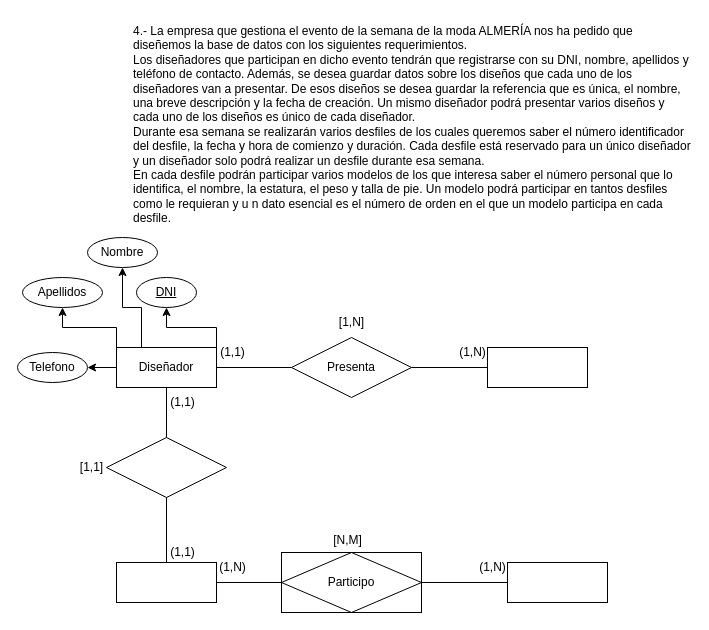
Image size: 709x630. Some labels were removed from this diagram. The box of each missing label's shape, as (x1, y1, x2, y2) in pixels:
Desfile: (116, 562, 216, 602)
Diseño: (486, 346, 588, 388)
Modelos: (506, 562, 608, 602)
Reserva: (106, 436, 226, 498)
